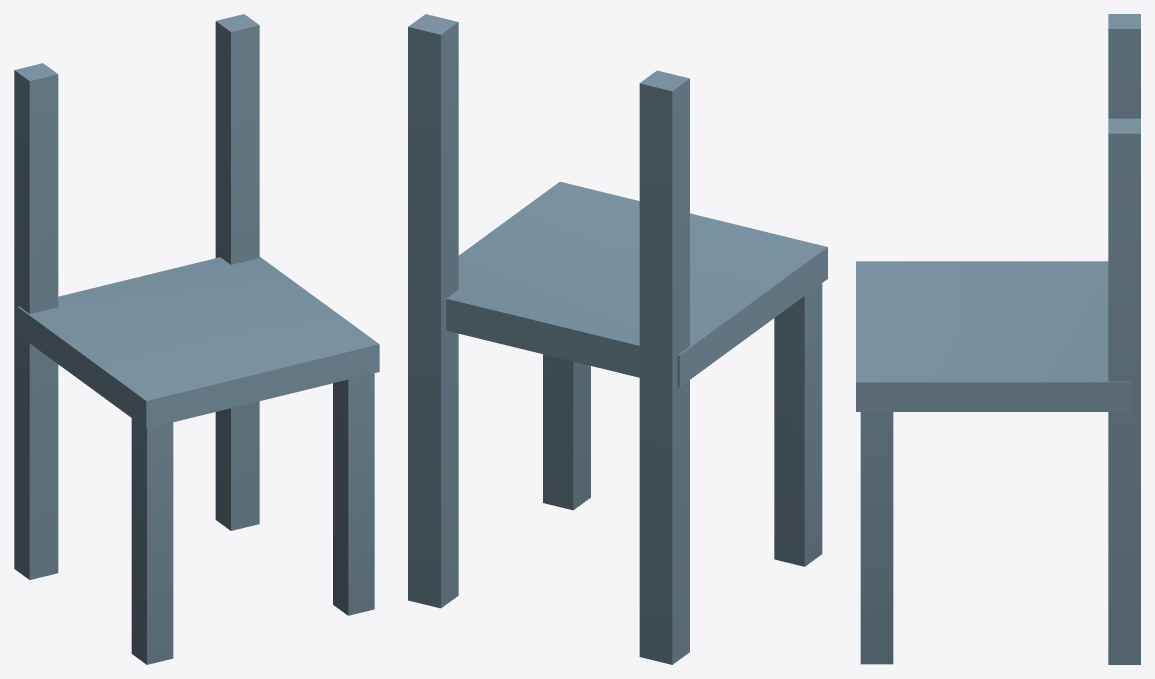
Rendered from chair.lod2.glb.
3 views of the same model, side by side, from view 1: azimuth 30°, elevation 25°; view 2: azimuth 150°, elevation 25°; view 3: azimuth 270°, elevation 25° (orthographic). The views are drawn at different scales.
Bounding box in the file's own units: 0.44 × 0.9 × 0.437.
